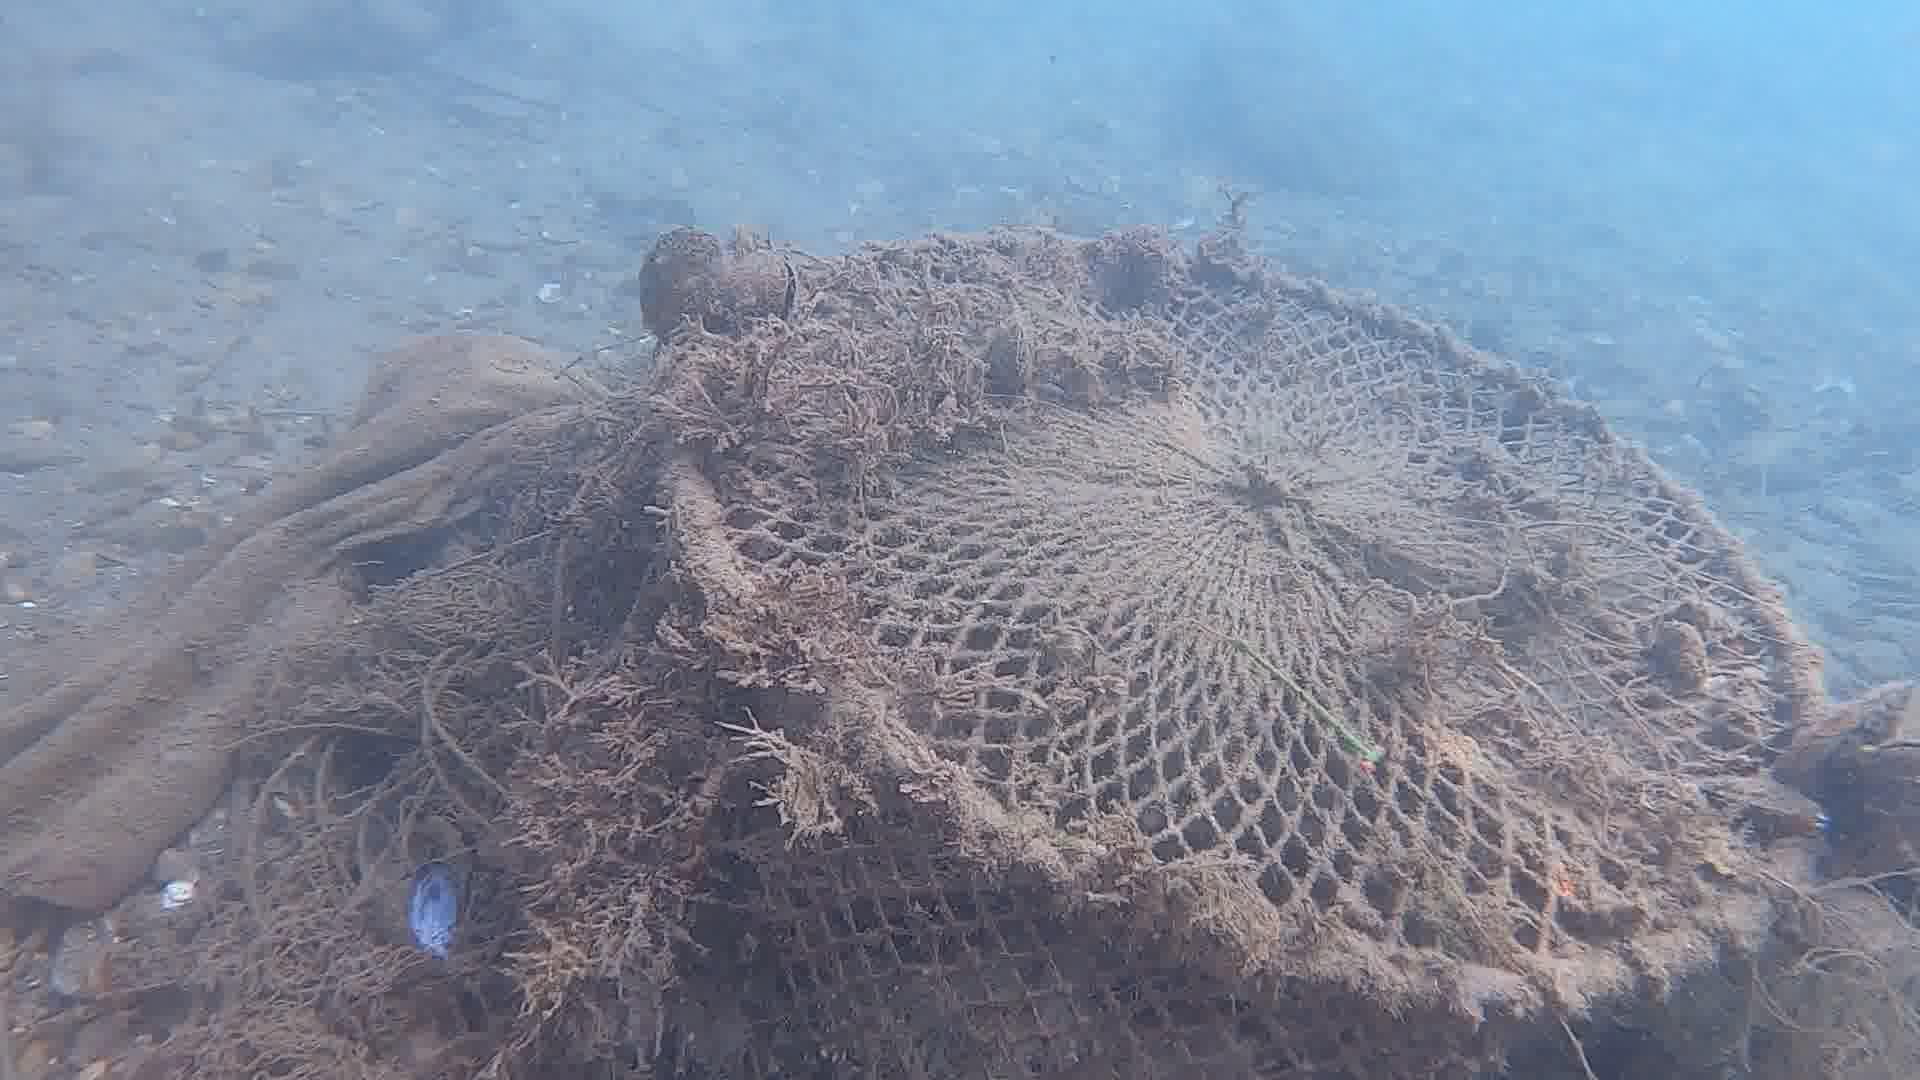circular fish trap: (607, 229, 1834, 1080)
